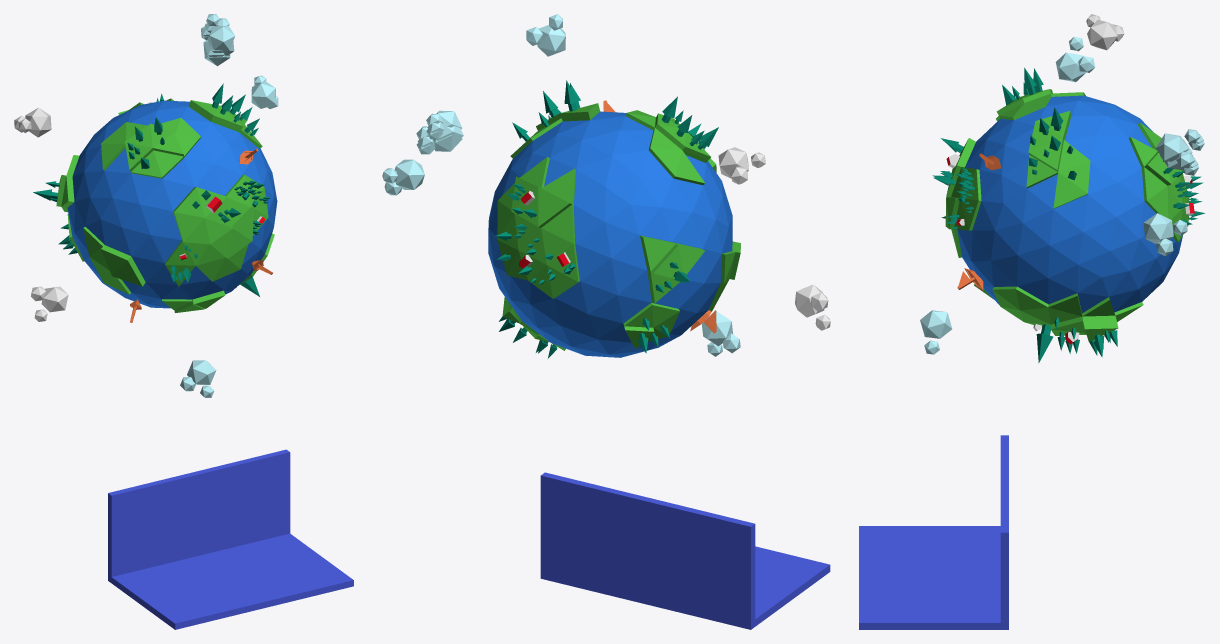
Rendered from globetest3.glb.
3 renders of one model, left to right at view 1: azimuth 30°, elevation 25°; view 2: azimuth 150°, elevation 25°; view 3: azimuth 270°, elevation 25°, orthographic. The views are drawn at different scales.
Parts seen in each view (by area): view 1: Plane.001, Icosphere.001, Icosphere, Plane.079, Icosphere.008, Icosphere.007, Icosphere.003, Icosphere.020, Icosphere.014, Icosphere.011, Plane.002; view 2: Icosphere.001, Plane.001, Icosphere, Plane.079, Icosphere.020, Icosphere.003, Icosphere.007, Icosphere.008, Icosphere.011; view 3: Icosphere.001, Plane.001, Icosphere, Plane.079, Icosphere.020, Icosphere.003, Icosphere.007, Icosphere.008, Icosphere.011, Plane.002, Plane.
Boxes of the visible parts, x1,y1,x2,y2 form: Plane.001: (108,449,353,629); Icosphere.001: (67,100,277,308); Icosphere: (56,98,274,312); Plane.079: (33,83,270,296); Icosphere.008: (180,360,216,397); Icosphere.007: (206,14,234,50); Icosphere.003: (251,75,278,108); Icosphere.020: (201,23,234,66); Icosphere.014: (41,286,68,312); Icosphere.011: (25,107,51,137); Plane.002: (130,149,272,322); Icosphere.001: (488,111,732,357); Plane.001: (540,472,830,629); Icosphere: (497,103,740,350); Plane.079: (495,80,718,358); Icosphere.020: (416,110,463,154); Icosphere.003: (382,159,424,195); Icosphere.007: (526,14,565,56); Icosphere.008: (701,311,740,356); Icosphere.011: (718,147,748,178); Icosphere.001: (957,95,1183,313); Plane.001: (859,435,1008,629); Icosphere: (945,89,1188,341); Plane.079: (932,67,1204,363); Icosphere.020: (1156,129,1204,175); Icosphere.003: (1143,213,1187,256); Icosphere.007: (1055,36,1095,82); Icosphere.008: (920,310,952,354); Icosphere.011: (1087,19,1117,50); Plane.002: (957,153,1001,290); Plane: (946,154,1194,344).
Bounding box in the file's own units: 3.49 × 5.47 × 3.02.
